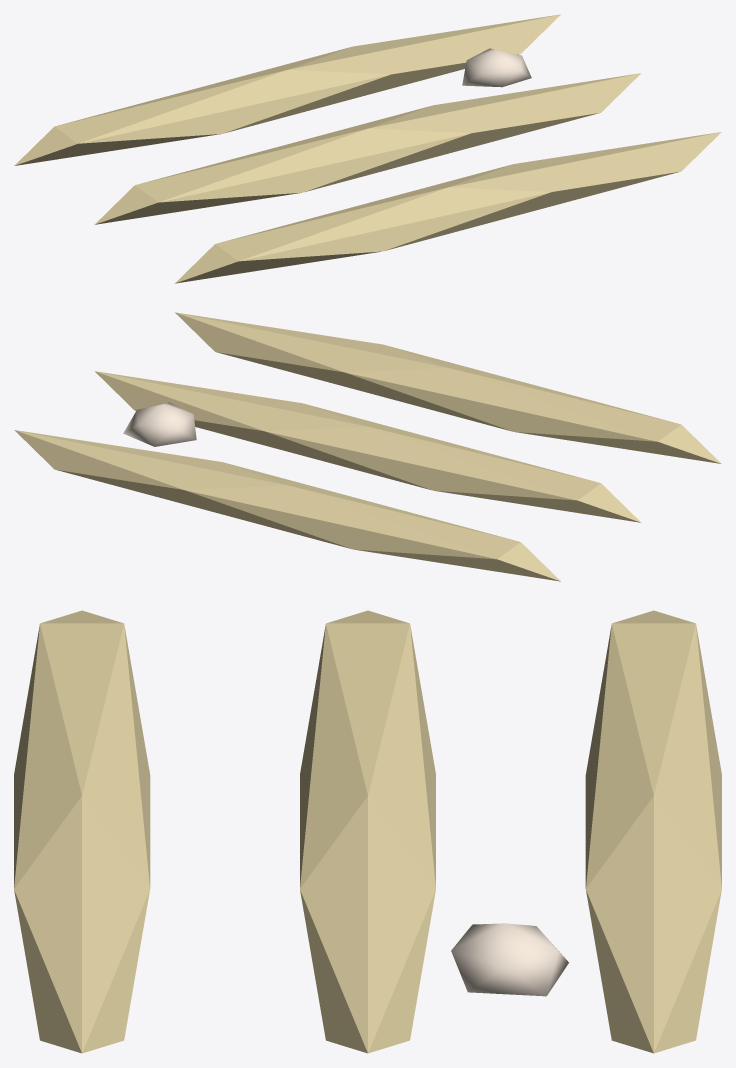
File: detail_sand.glb
3 renders of one model, top to bottom at view 1: azimuth 30°, elevation 25°; view 2: azimuth 150°, elevation 25°; view 3: azimuth 270°, elevation 25°, orthographic. The views are drawn at different scales.
Parts seen in each view (by area): view 1: ripple_1, ripple_0, ripple_2, shell; view 2: ripple_0, ripple_2, ripple_1, shell; view 3: ripple_0, ripple_2, ripple_1, shell.
Part boxes in pixels (bbox=[...]): ripple_1: bbox=[94, 73, 641, 224]; ripple_0: bbox=[175, 132, 721, 283]; ripple_2: bbox=[14, 14, 560, 165]; shell: bbox=[462, 48, 531, 87]; ripple_0: bbox=[175, 312, 721, 463]; ripple_2: bbox=[14, 430, 560, 581]; ripple_1: bbox=[94, 371, 641, 522]; shell: bbox=[123, 402, 196, 446]; ripple_0: bbox=[14, 610, 150, 1053]; ripple_2: bbox=[585, 610, 721, 1053]; ripple_1: bbox=[300, 610, 435, 1053]; shell: bbox=[451, 923, 568, 996].
Bounding box in the file's own units: 0.9839 × 0.0867 × 0.6191.
